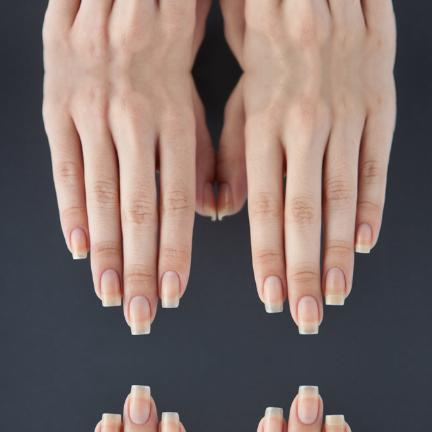Nail: (129, 384, 151, 424), (129, 295, 151, 334), (298, 294, 319, 334), (298, 385, 319, 424), (101, 267, 121, 306), (325, 266, 345, 305), (263, 274, 283, 312), (161, 270, 180, 307), (217, 180, 232, 220), (203, 180, 216, 220), (263, 406, 283, 432), (71, 227, 87, 258), (356, 222, 372, 252), (101, 413, 121, 432), (161, 412, 180, 432), (325, 414, 345, 432)
